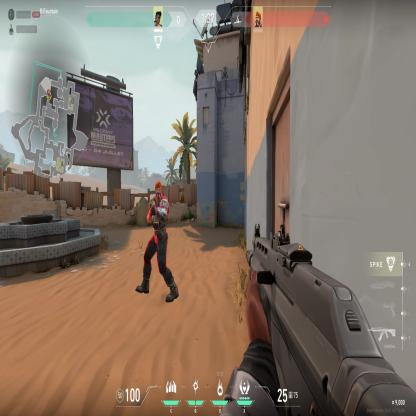enemy: (134, 178, 180, 305)
